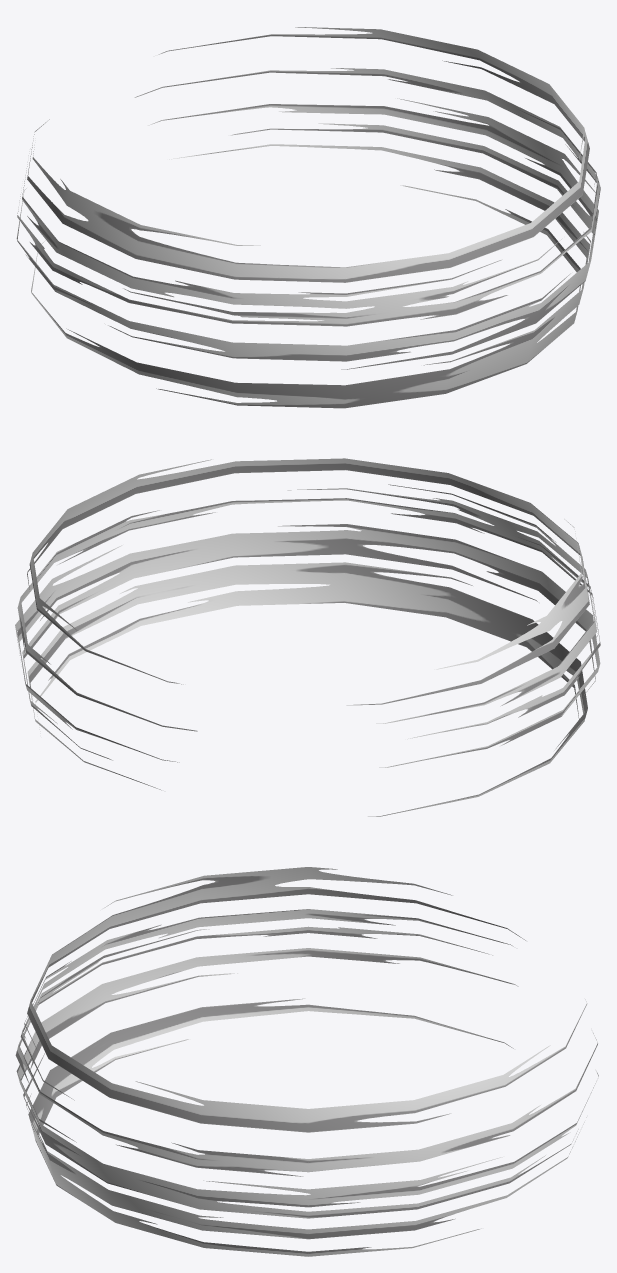
The model's file is eff_cylinder_s_08.FBX.
3 views of the same model, one above another, from view 1: azimuth 30°, elevation 25°; view 2: azimuth 150°, elevation 25°; view 3: azimuth 270°, elevation 25° (orthographic).
Visible parts, largest first — view 1: eff_cylinder_s_08; view 2: eff_cylinder_s_08; view 3: eff_cylinder_s_08.
Boxes of the visible parts, x1,y1,x2,y2 form: eff_cylinder_s_08: (16, 27, 600, 408); eff_cylinder_s_08: (15, 458, 600, 816); eff_cylinder_s_08: (15, 867, 598, 1256).
Size of the model in its own units: 205 by 63.24 by 205.
Materials: 1 (1 with a texture image).
